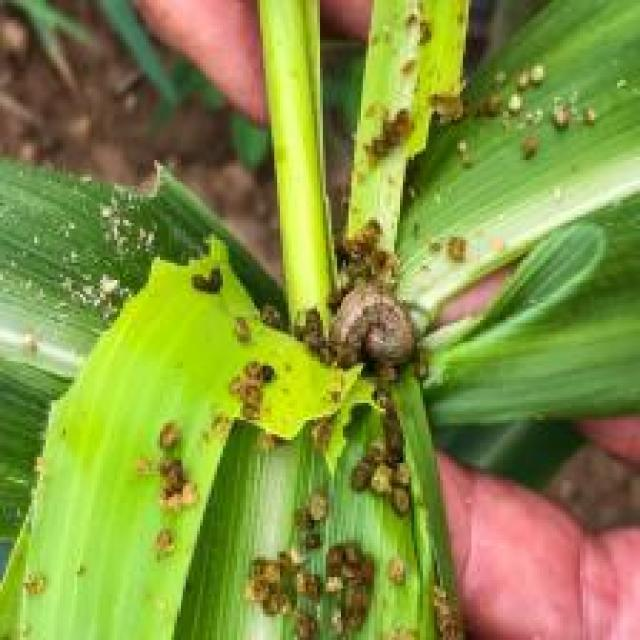pest: (324, 291, 421, 360)
